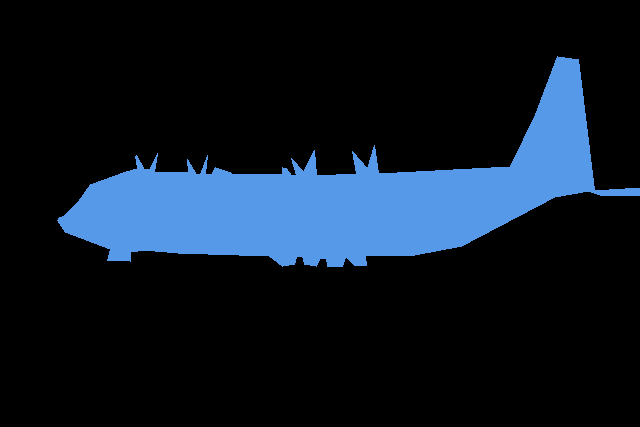Airplane: (57, 56, 640, 267)
